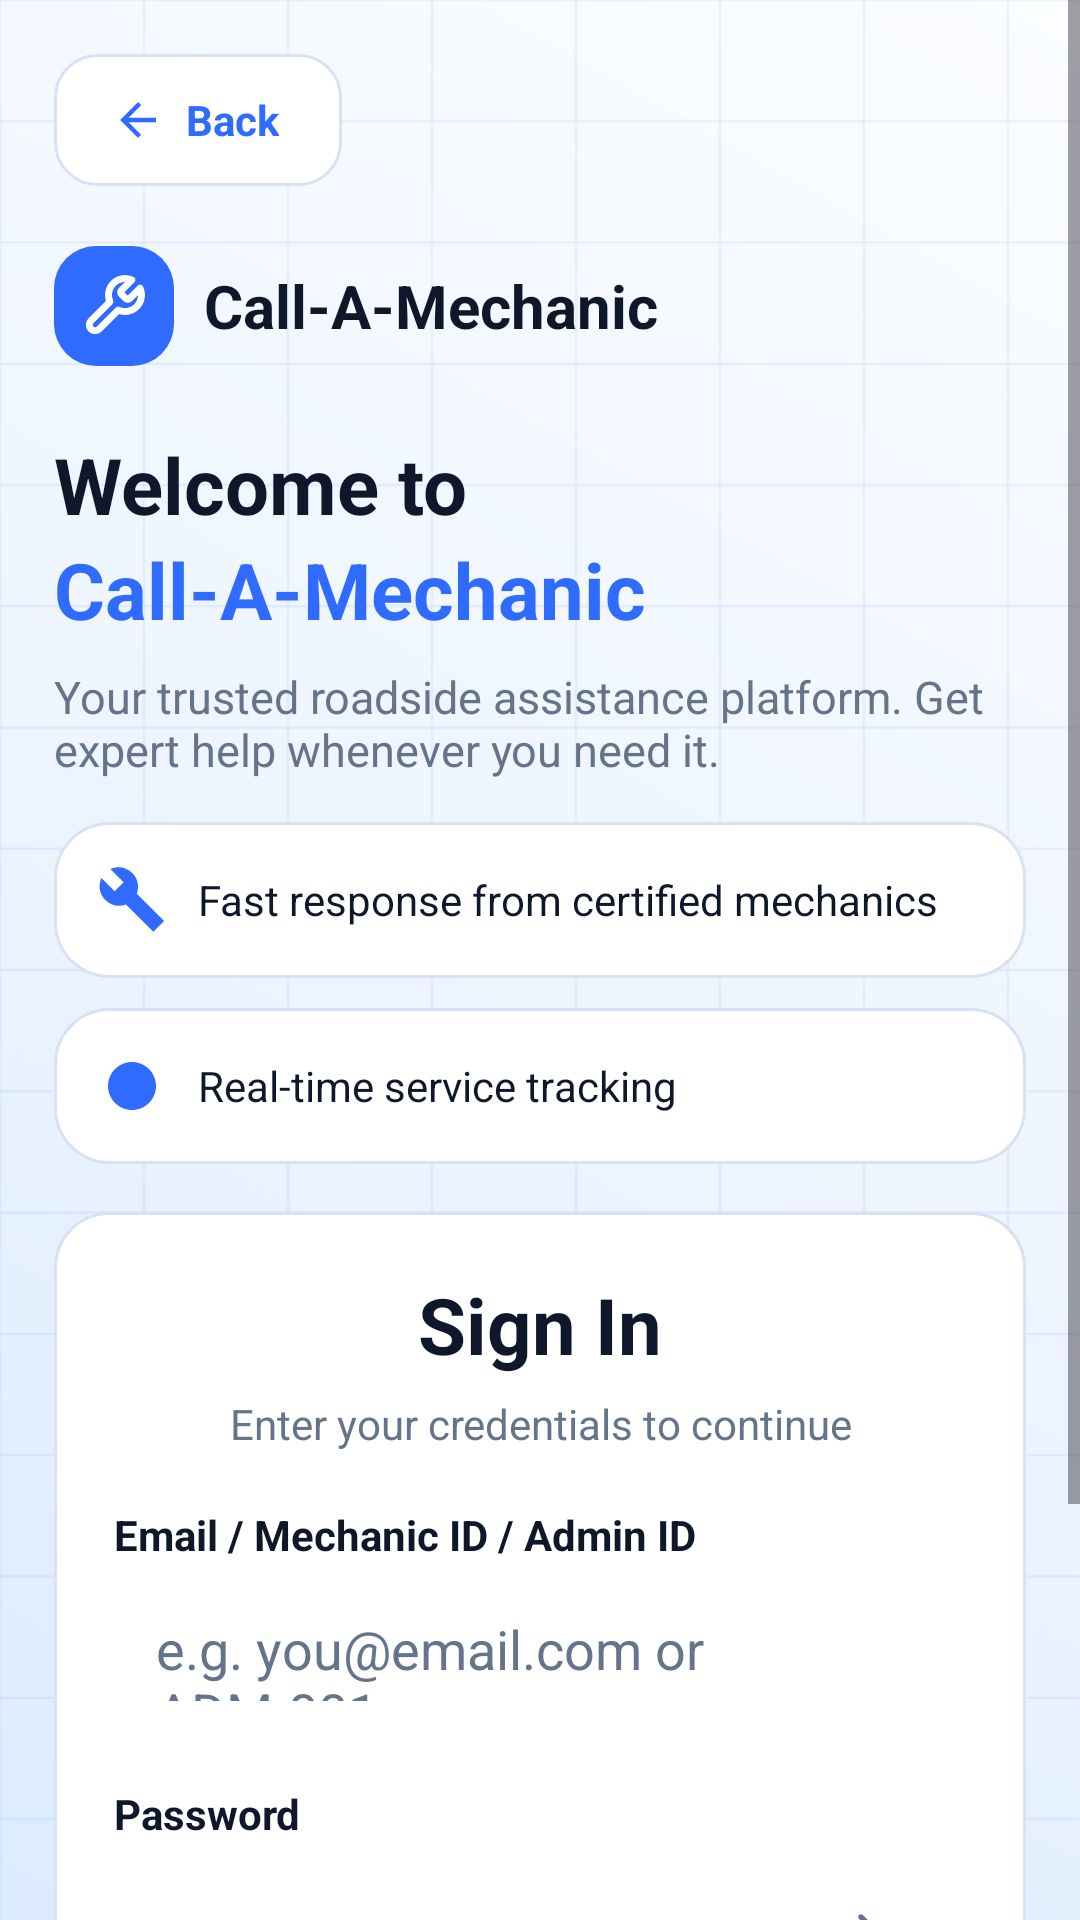

Where icons sit on this 1080 × 1920 app screen, as (x1, y1, x2, y2):
wrench: (99, 867, 164, 932)
